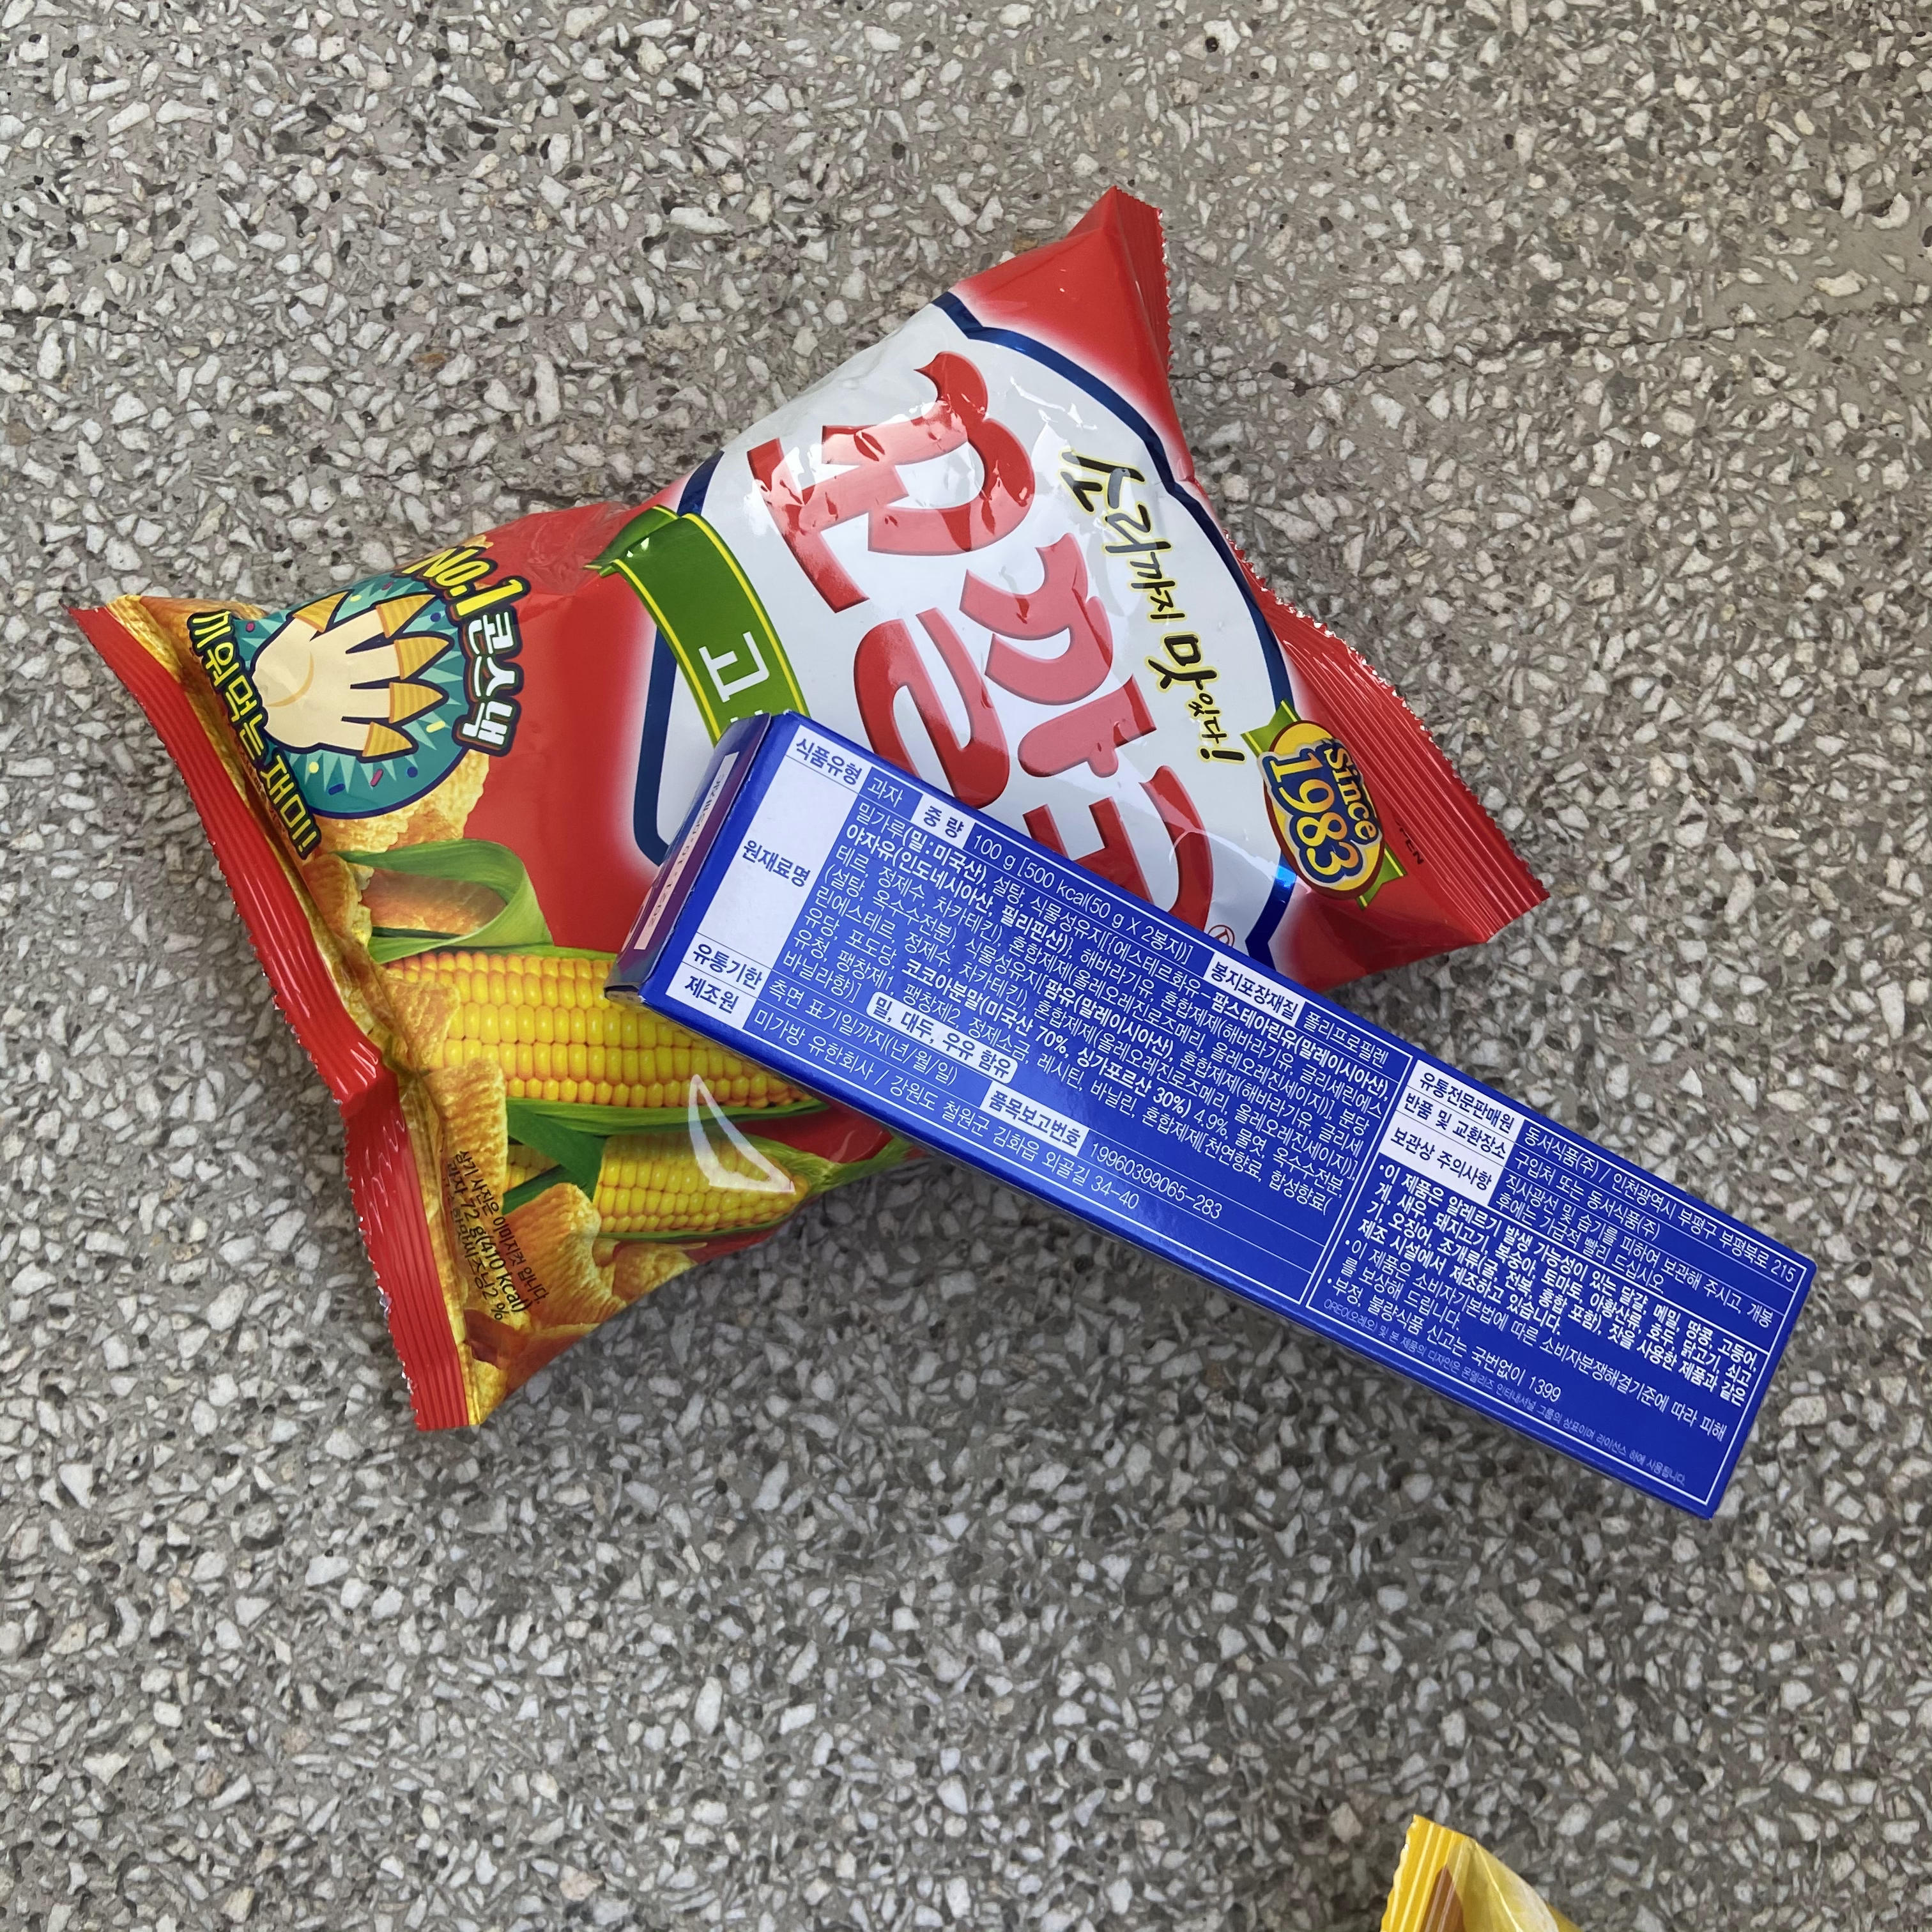ggoggalcon: (55, 166, 1576, 1447)
oreo: (603, 704, 1831, 1534)
